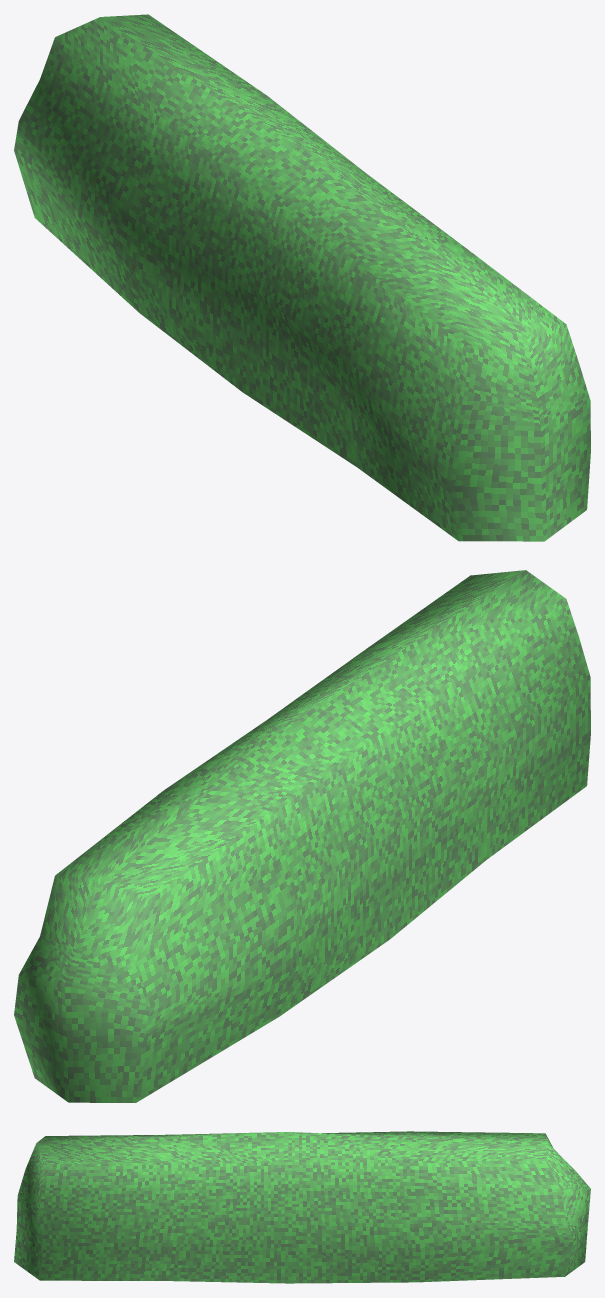
Rendered from bash1.glb.
3 renders of one model, top to bottom at view 1: azimuth 30°, elevation 25°; view 2: azimuth 150°, elevation 25°; view 3: azimuth 270°, elevation 25°, orthographic. The views are drawn at different scales.
Parts seen in each view (by area): view 1: Cube; view 2: Cube; view 3: Cube.
Boxes of the visible parts, x1=… form: Cube: x1=14, y1=14, x2=590, y2=541; Cube: x1=14, y1=570, x2=590, y2=1102; Cube: x1=14, y1=1131, x2=590, y2=1283.
Bounding box in the file's own units: 1.99 × 2.55 × 10.23.
1 material, 1 textured.
